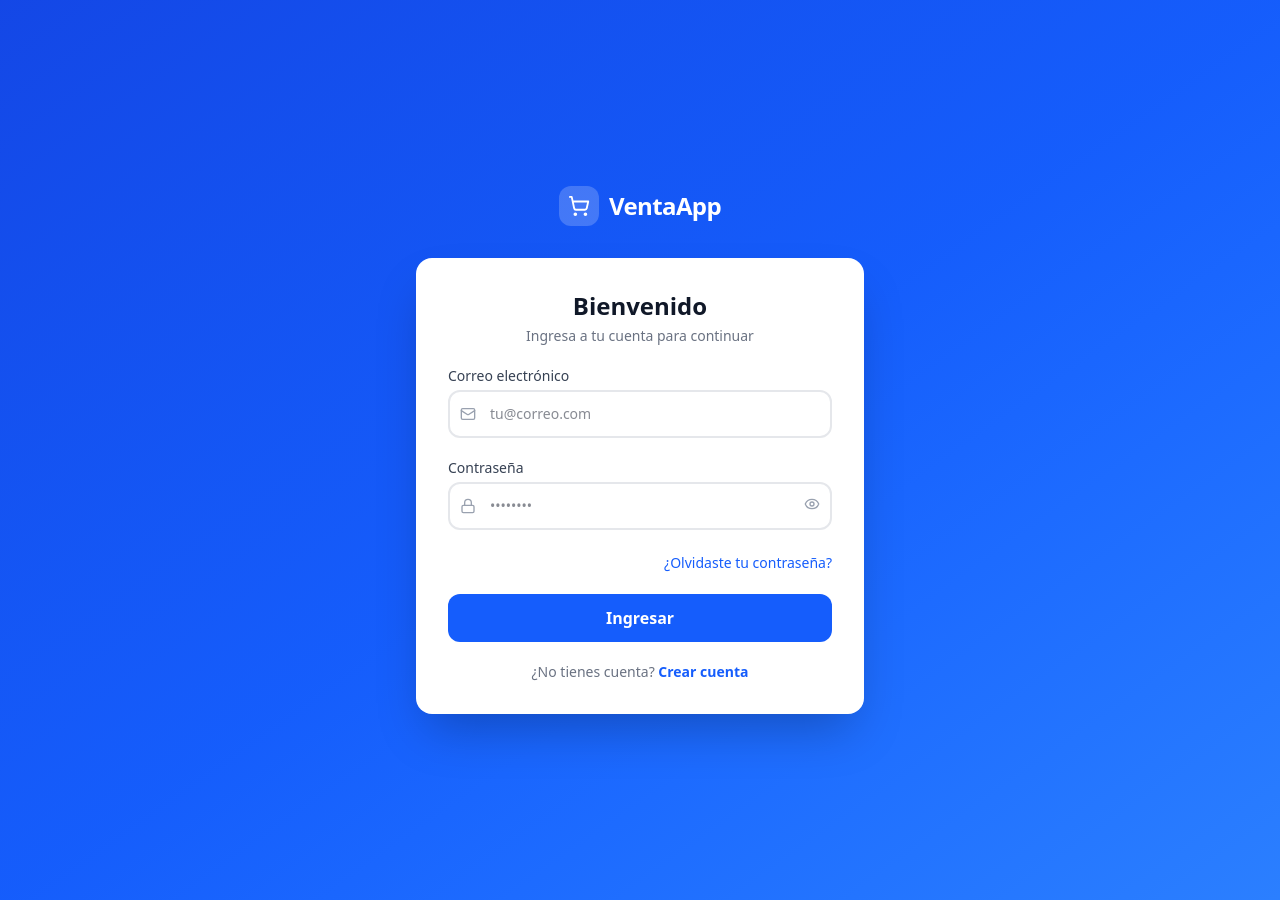
Test case: LoginView › shows error when submitting with empty email
Click the button "Ingresar": {"x": 640, "y": 618} [448,594,832,642]
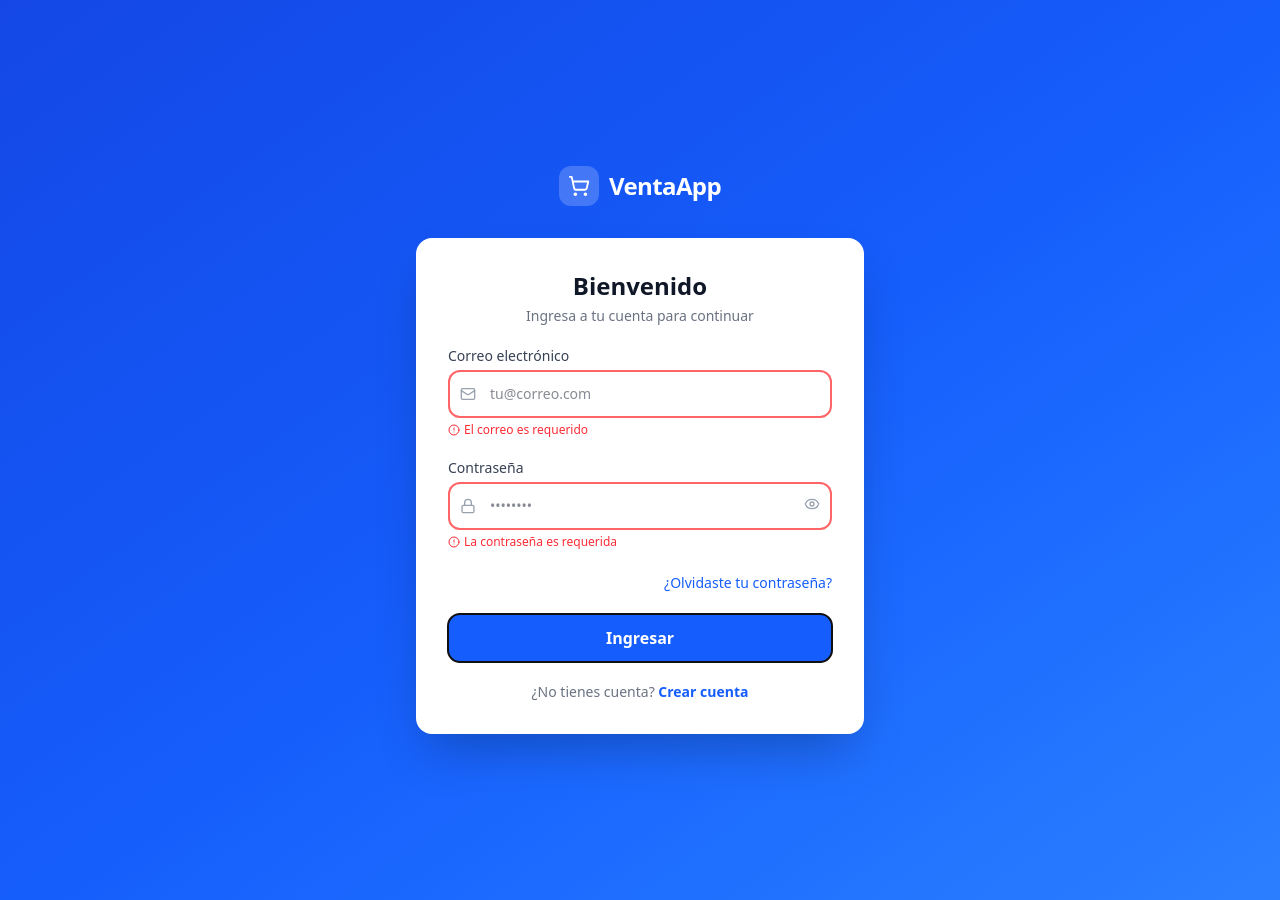
Check: the text "El correo es requerido" is shown, box [448,421,588,438]
